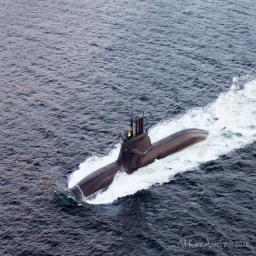submarine: (58, 102, 220, 206)
